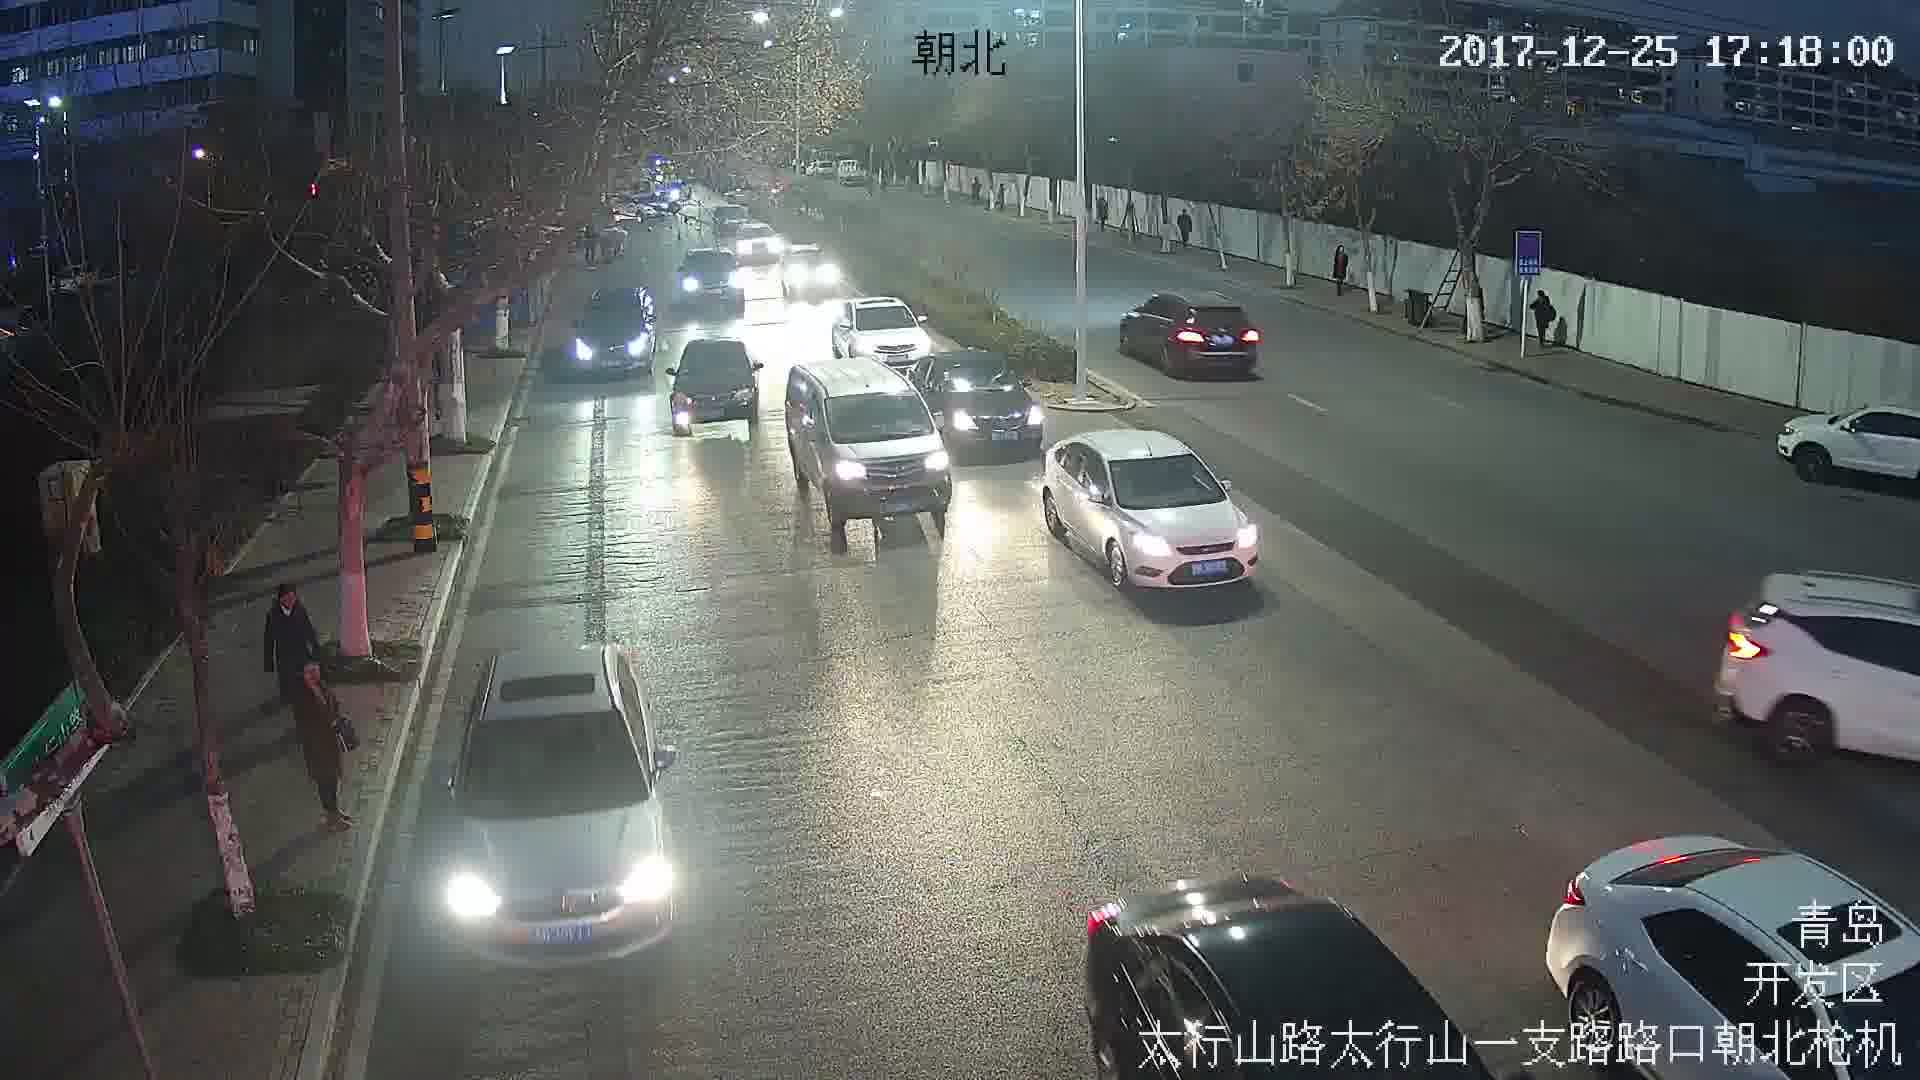car: (450, 645, 681, 962), (1037, 427, 1263, 599), (784, 363, 952, 531), (923, 352, 1046, 464), (1118, 291, 1259, 375), (663, 337, 764, 437), (570, 288, 656, 378), (837, 294, 932, 366), (675, 239, 746, 319)
person: (289, 666, 356, 827), (263, 588, 314, 689), (1331, 246, 1356, 302), (1534, 289, 1557, 344)
